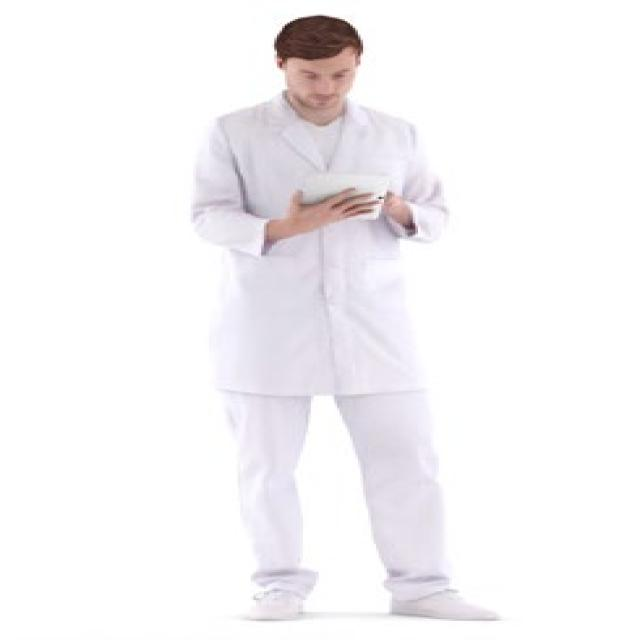standing: (184, 16, 496, 630)
